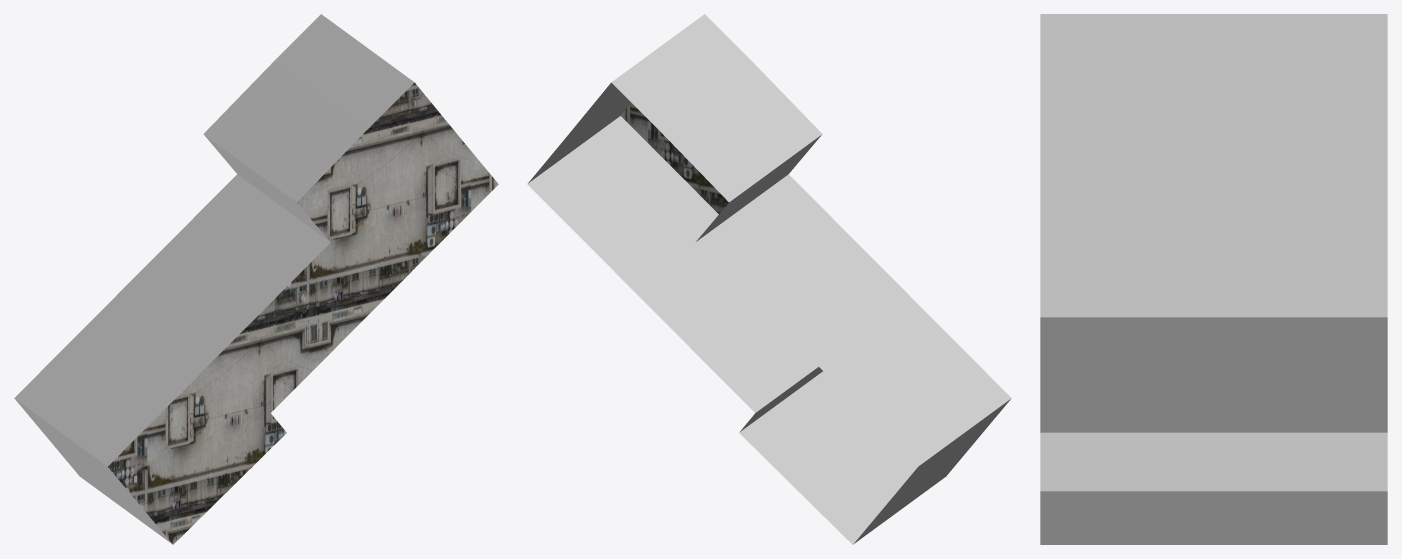
Rendered from geospecific_1626.obj.
3 views of the same model, side by side, from view 1: azimuth 30°, elevation 25°; view 2: azimuth 150°, elevation 25°; view 3: azimuth 270°, elevation 25° (orthographic). The views are drawn at different scales.
Visible parts, largest first — view 1: Building; view 2: Building; view 3: Building.
Part boxes in pixels (x1,y1,x2,y2): Building: (14, 14, 498, 544); Building: (527, 14, 1011, 544); Building: (1040, 14, 1387, 544).
Bounding box in the file's own units: 28.98 × 28.58 × 12.
